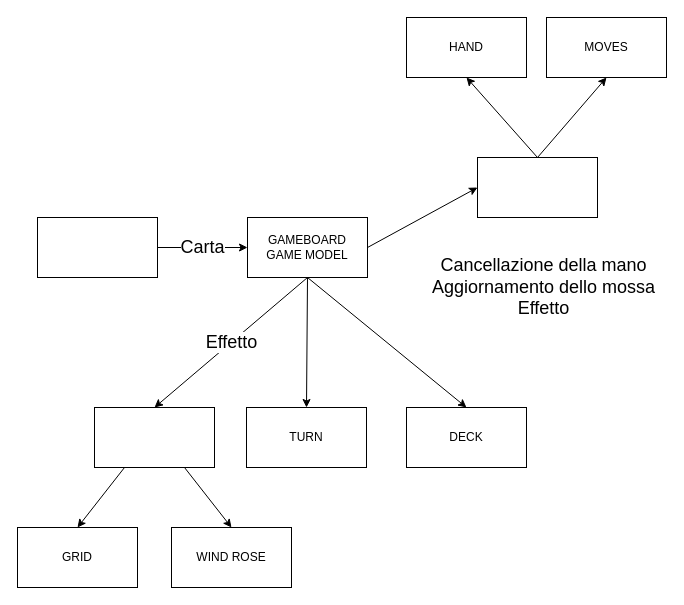
Some shapes in this 684 by 605 pixel diagram are drawn without their labels. Each missing label, with the centre of its shape:
"BOARD" belongs at (x=154, y=437).
"MODEL" belongs at (x=97, y=247).
"PLAYER" belongs at (x=537, y=187).
